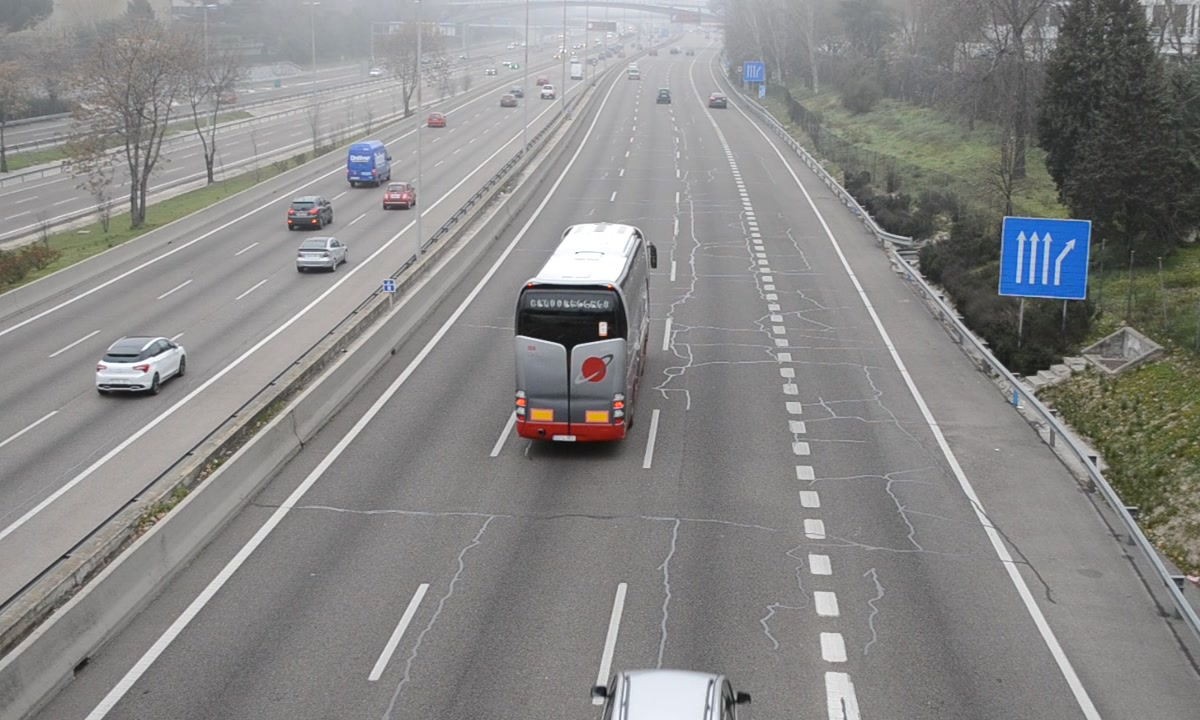bus: (512, 223, 648, 446)
car: (708, 91, 729, 110)
